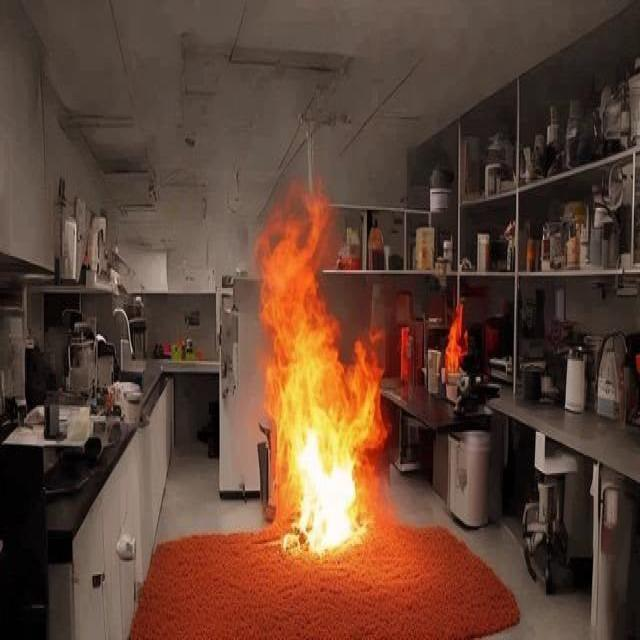smoke: (251, 212, 388, 554)
